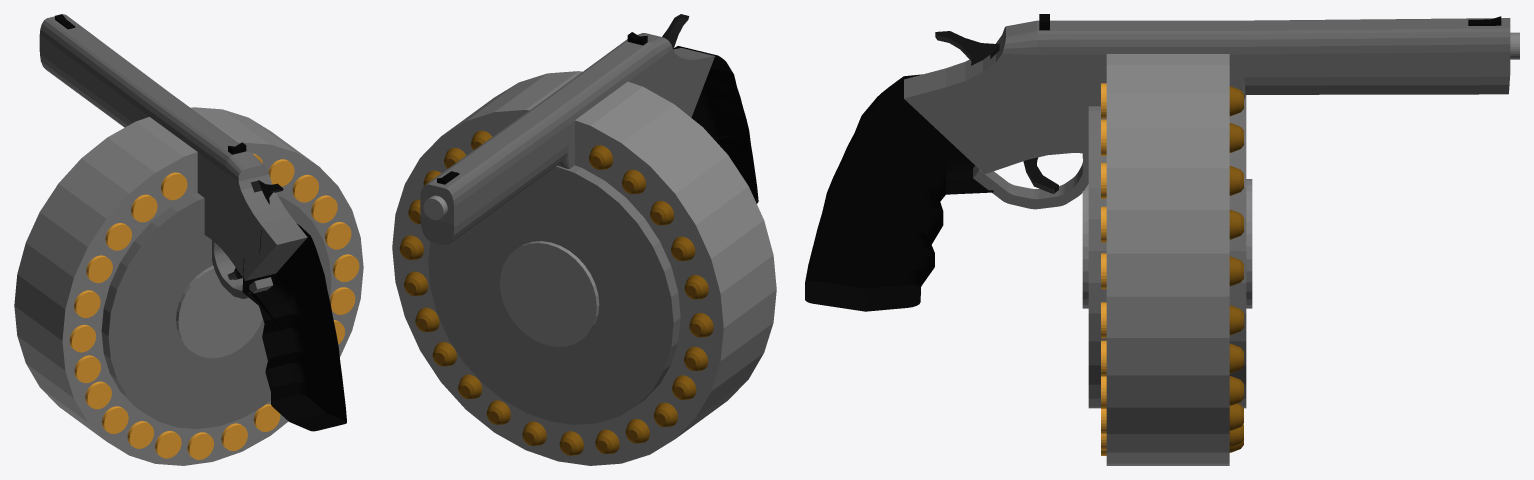
Rendered from Revolver.fbx.
The picture shows the model from 3 angles, left to right: view 1: azimuth 30°, elevation 25°; view 2: azimuth 150°, elevation 25°; view 3: azimuth 270°, elevation 25°; orthographic projection. The views are drawn at different scales.
Parts seen in each view (by area): view 1: Cylinder.072; view 2: Cylinder.072; view 3: Cylinder.072.
Part boxes in pixels (x1=…): Cylinder.072: x1=14, y1=14, x2=363, y2=465; Cylinder.072: x1=392, y1=14, x2=776, y2=465; Cylinder.072: x1=805, y1=14, x2=1519, y2=465.
Size of the model in its own units: 64.2 by 68.02 by 103.
